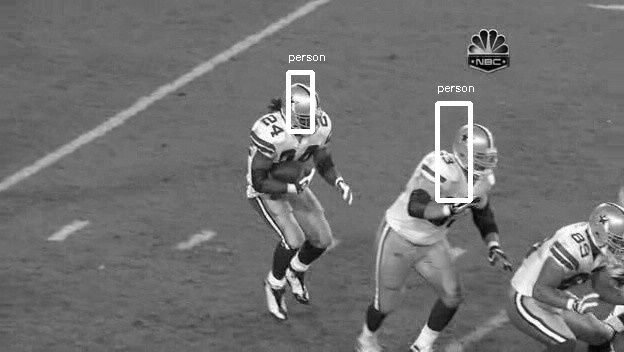person: (285, 85, 321, 134), (284, 85, 320, 134), (286, 85, 322, 134), (285, 84, 321, 133), (285, 86, 321, 135)
target_negative: (29, 214, 293, 313), (235, 171, 430, 242), (198, 297, 518, 323), (224, 104, 271, 205), (173, 212, 223, 247), (611, 97, 622, 242)
